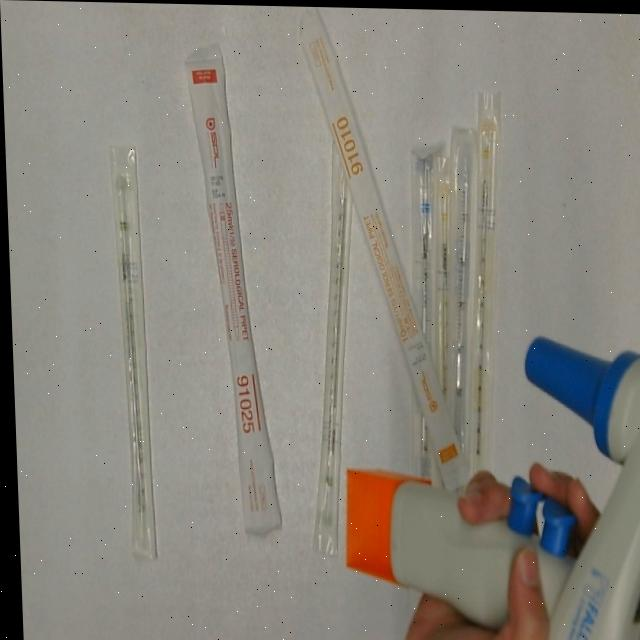Pipette Controller: (332, 330, 640, 640)
Serelogical Pipet 1 mL - Sealed: (451, 86, 517, 502), (421, 152, 466, 404)
Serelogical Pipet 10 mL - Sealed: (295, 9, 464, 491)
Serelogical Pipet 2 mL - Sealed: (295, 130, 372, 558), (110, 143, 156, 562)
Serelogical Pipet 25 mL - Sealed: (183, 38, 295, 539)
Serelogical Pipet 5 mL - Sealed: (424, 121, 493, 601), (393, 135, 453, 618)
